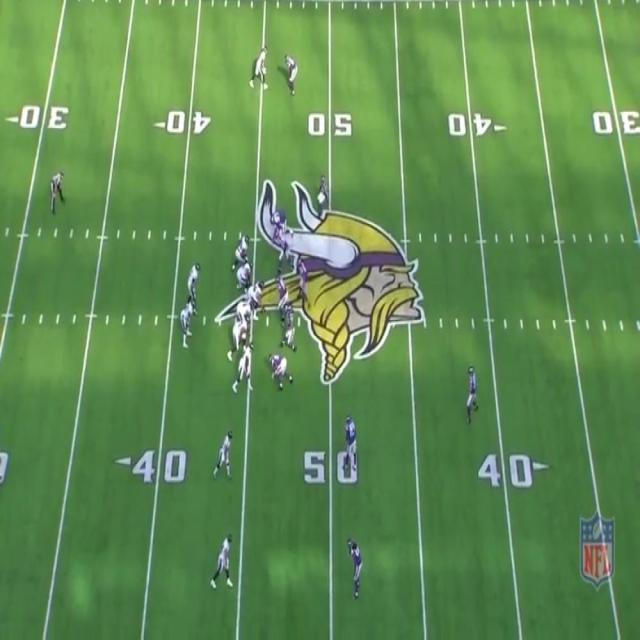center: (249, 277, 263, 315)
db: (343, 544, 365, 595), (338, 414, 358, 466), (285, 57, 299, 95), (467, 366, 476, 418), (316, 176, 328, 212)
lb: (298, 258, 312, 302), (276, 232, 290, 263)
qb: (187, 263, 201, 309)
skill: (213, 536, 234, 590), (214, 427, 233, 479), (235, 342, 253, 390), (252, 41, 266, 88), (180, 302, 194, 344)
